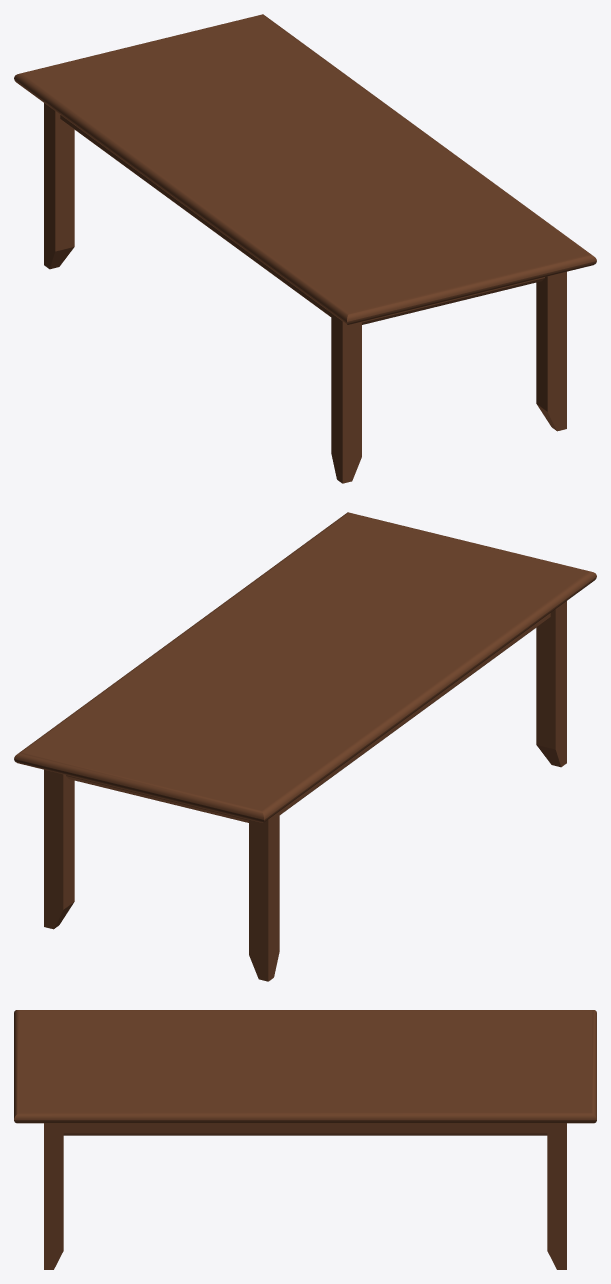
File: GrandeTable_45.fbx
3 views of the same model, one above another, from view 1: azimuth 30°, elevation 25°; view 2: azimuth 150°, elevation 25°; view 3: azimuth 270°, elevation 25° (orthographic). The views are drawn at different scales.
Parts seen in each view (by area): view 1: pCube89, pCube90; view 2: pCube89, pCube90; view 3: pCube89, pCube90.
Part boxes in pixels (x1=…): pCube89: x1=14, y1=14, x2=596, y2=324; pCube90: x1=44, y1=103, x2=566, y2=483; pCube89: x1=14, y1=512, x2=596, y2=822; pCube90: x1=44, y1=601, x2=566, y2=981; pCube89: x1=14, y1=1010, x2=596, y2=1135; pCube90: x1=44, y1=1123, x2=566, y2=1269.
Size of the model in its own units: 56.89 by 39.8 by 131.
